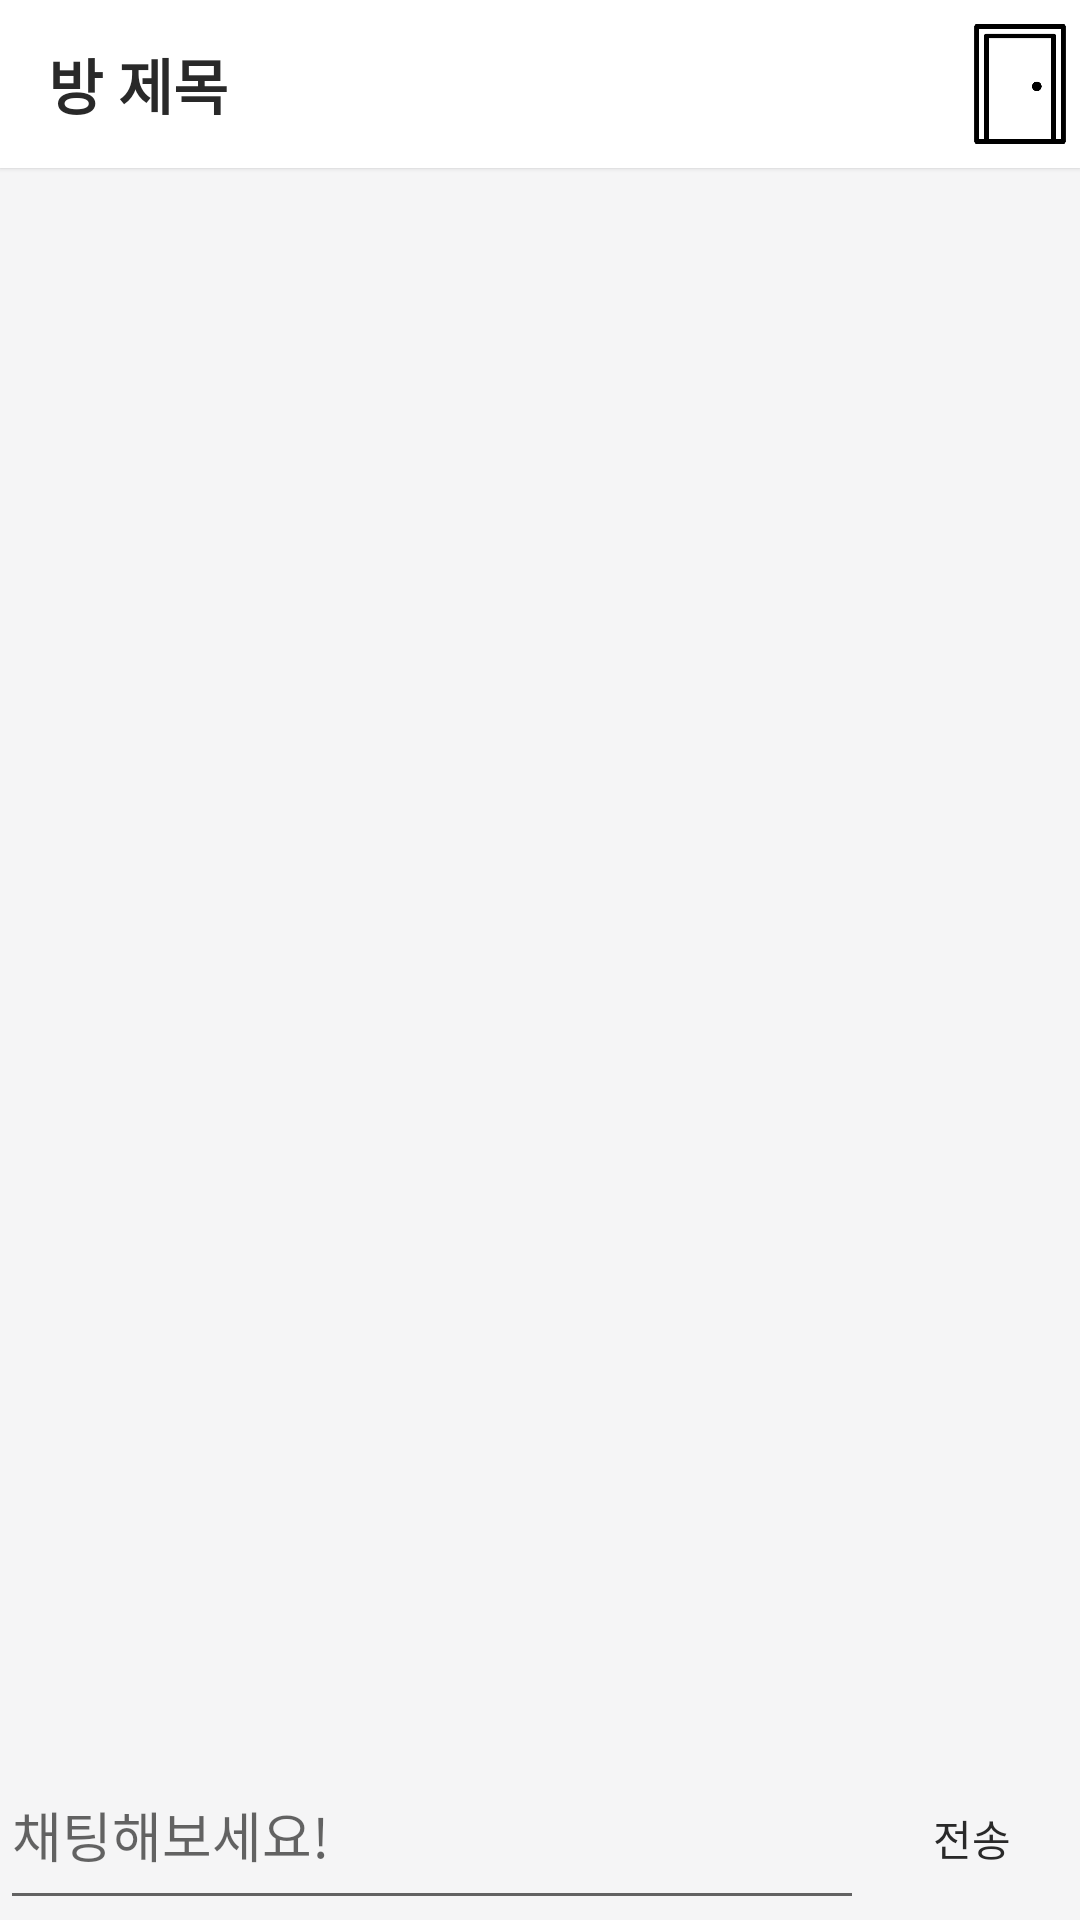

Named icons in this screenshot (1080w x 1920h) and their bounding boxes, (x1, y1, x2, y2):
door: (974, 24, 1066, 144)
